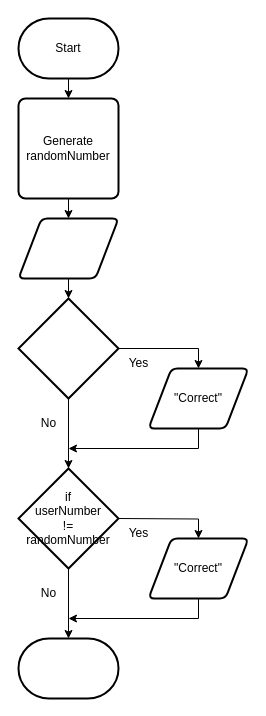
Some shapes in this 266 by 716 pixel diagram are drawn without their labels. The centre of each missing label's shape, as x and y in pixels:
"Get userNumber" goes at pixel 68 248.
"if userNumber == randomNumber" goes at pixel 68 348.
"Stop" goes at pixel 68 668.
